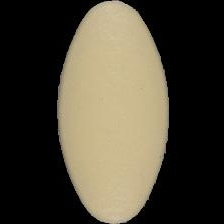51655-500: (0, 0, 224, 224)
